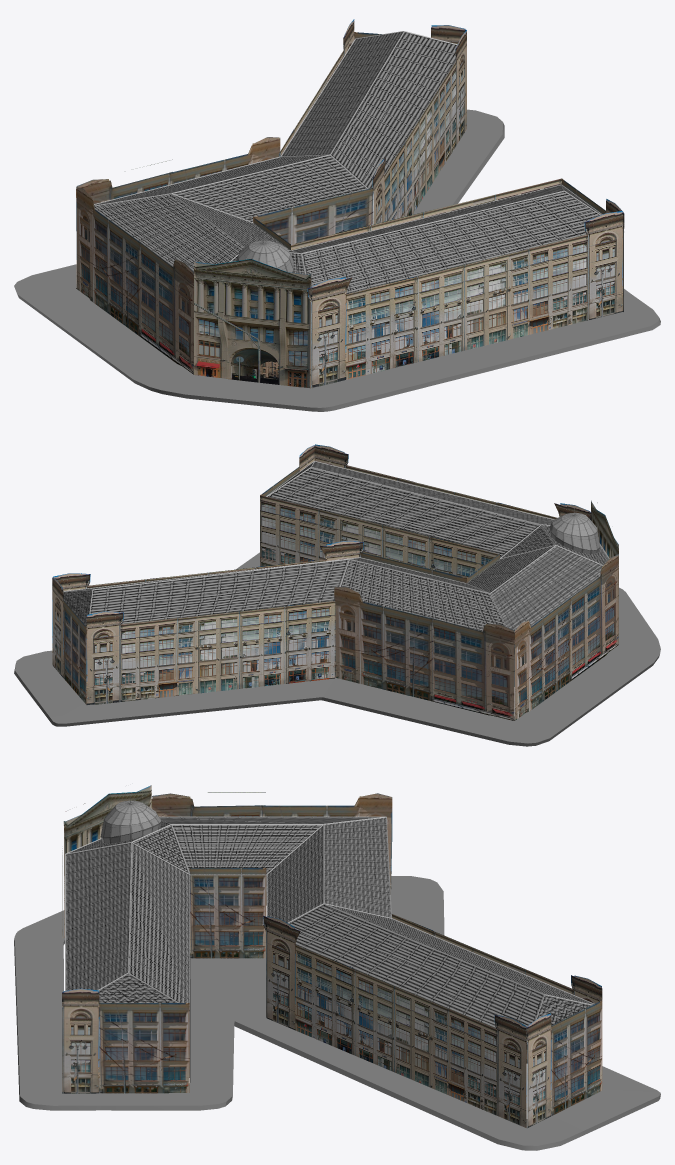
Rendered from PSBank_1.fbx.
The picture shows the model from 3 angles, top to bottom: view 1: azimuth 30°, elevation 25°; view 2: azimuth 150°, elevation 25°; view 3: azimuth 270°, elevation 25°; orthographic projection. The views are drawn at different scales.
Parts seen in each view (by area): view 1: PSBank; view 2: PSBank; view 3: PSBank.
Part boxes in pixels (<box>): PSBank: <box>14,19,660,411</box>; PSBank: <box>14,444,660,746</box>; PSBank: <box>14,785,660,1150</box>.
Size of the model in its own units: 2722 by 673 by 2746.
9 materials, 7 textured.
